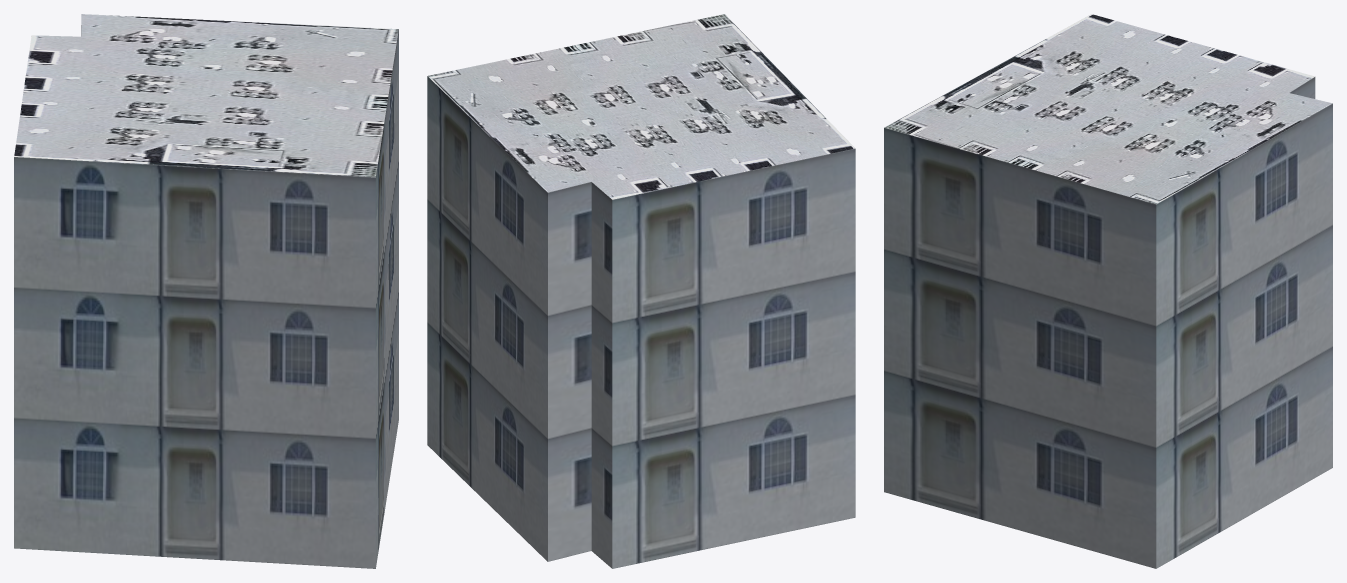
Rendered from ResTex__4388.fbx.
3 views of the same model, side by side, from view 1: azimuth 30°, elevation 25°; view 2: azimuth 150°, elevation 25°; view 3: azimuth 270°, elevation 25° (orthographic). The views are drawn at different scales.
Visible parts, largest first — view 1: CityEngineMaterial_17_m, CityEngineMaterial_4_m; view 2: CityEngineMaterial_17_m, CityEngineMaterial_4_m; view 3: CityEngineMaterial_17_m, CityEngineMaterial_4_m.
Boxes of the visible parts, left/top/right/bottom form: CityEngineMaterial_17_m: left=14, top=25, right=398, bottom=568; CityEngineMaterial_4_m: left=14, top=14, right=398, bottom=177; CityEngineMaterial_17_m: left=427, top=76, right=855, bottom=568; CityEngineMaterial_4_m: left=428, top=14, right=855, bottom=199; CityEngineMaterial_17_m: left=884, top=77, right=1332, bottom=568; CityEngineMaterial_4_m: left=884, top=14, right=1332, bottom=204.
Size of the model in its own units: 10.09 by 9 by 10.05.
Materials: 2 (2 with a texture image).
